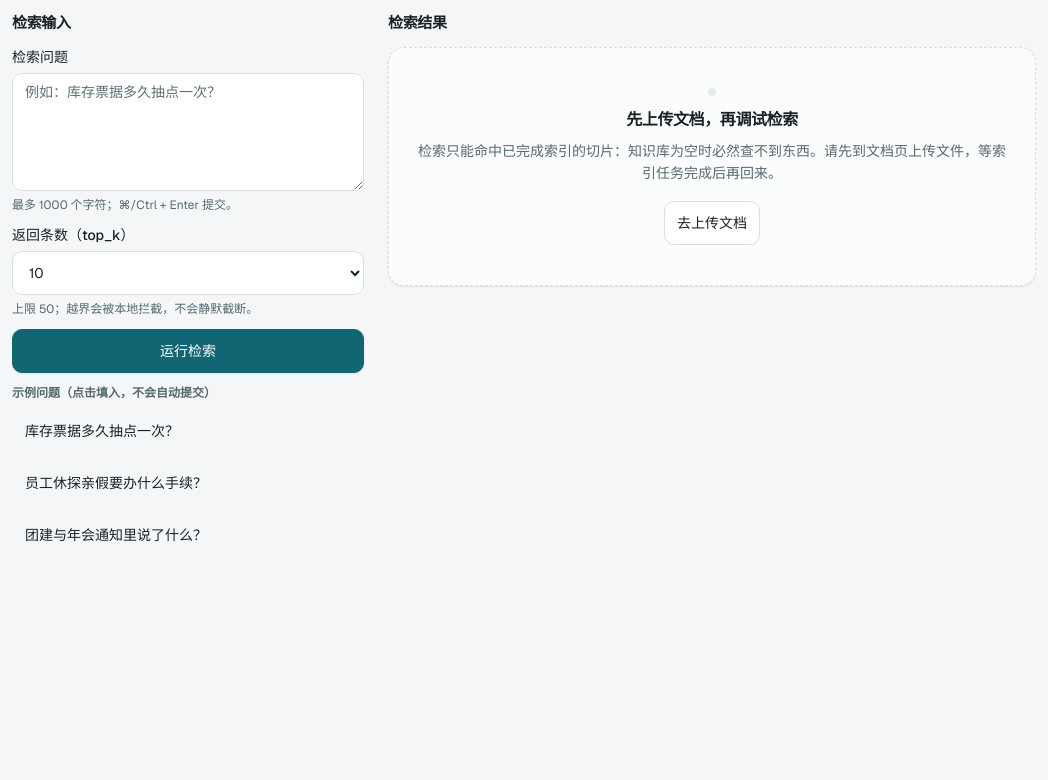
Test: features/query/QueryConsole › 按 rrf_score 降序渲染排名，null 的通道排名显示 —
Type "检索是怎么实现的？" into the text box labelled "检索问题" at (188, 132), box [12,72,364,190]
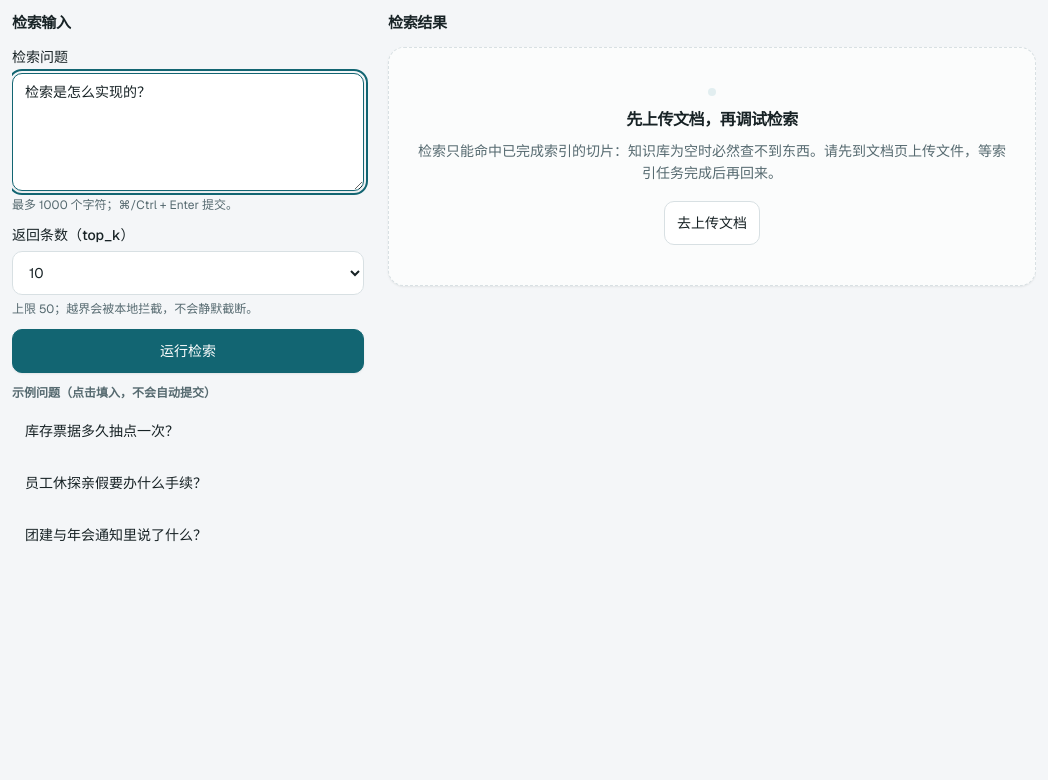
Click the button "运行检索" at (188, 350), box [12,328,364,372]
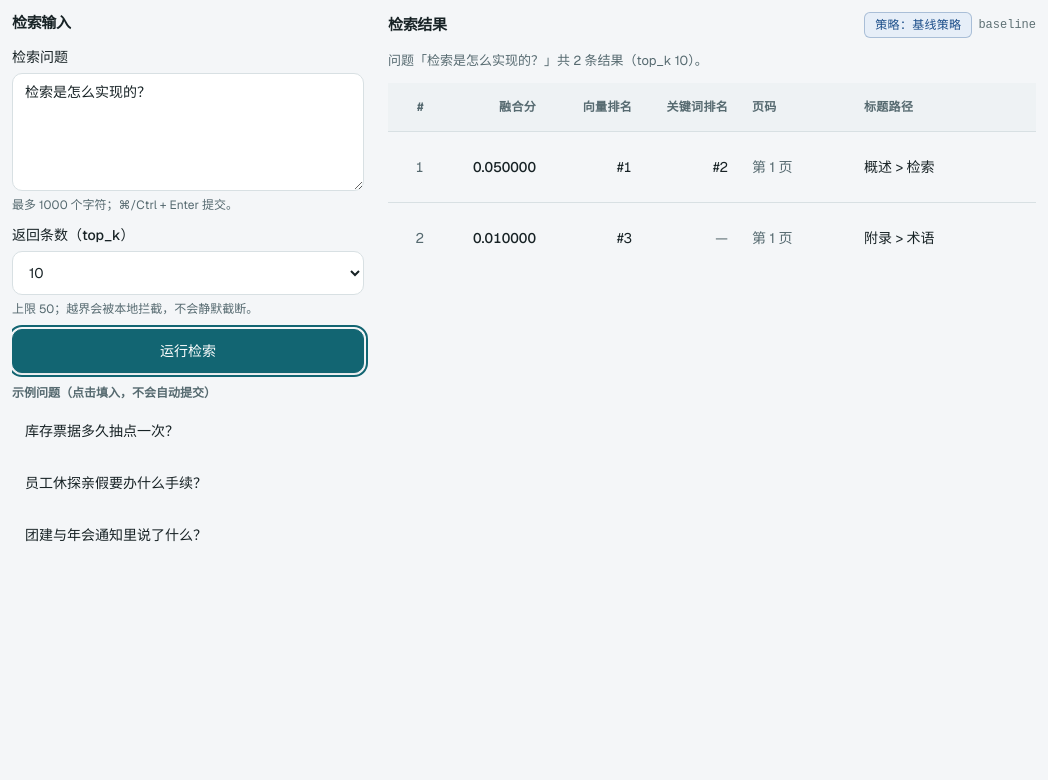
Expected: the number of rows with test id "retrieval-row" is 2, [388,131,1036,203]; [388,203,1036,274]
Expected: the text "0.050000" is shown, [473,158,536,176]
Expected: the text "#1" is shown, [617,158,632,176]
